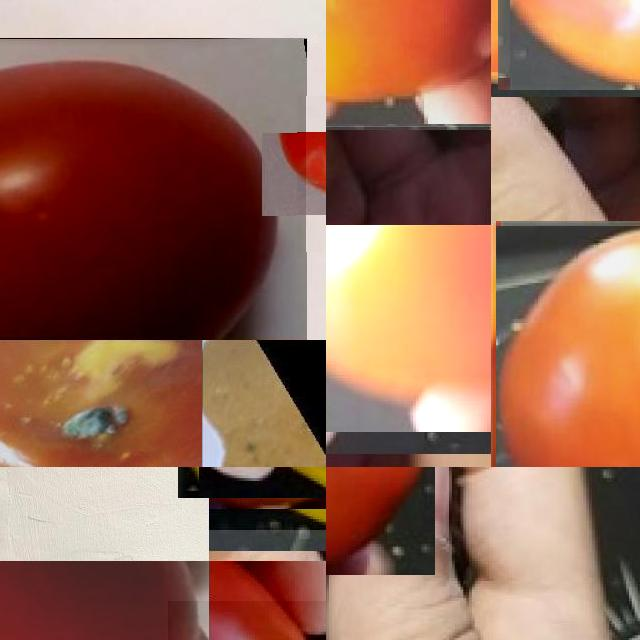0: (0, 38, 307, 340)
1: (0, 340, 202, 467)
Fresh Tomato: (493, 222, 640, 467), (326, 225, 491, 432), (0, 561, 209, 640), (494, 0, 640, 87)
Rotten Tomato: (326, 0, 491, 126), (326, 467, 435, 575)
